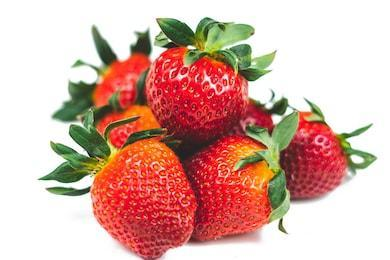Fresa: (84, 134, 196, 260), (178, 130, 289, 245), (143, 38, 251, 145), (278, 106, 350, 206)
